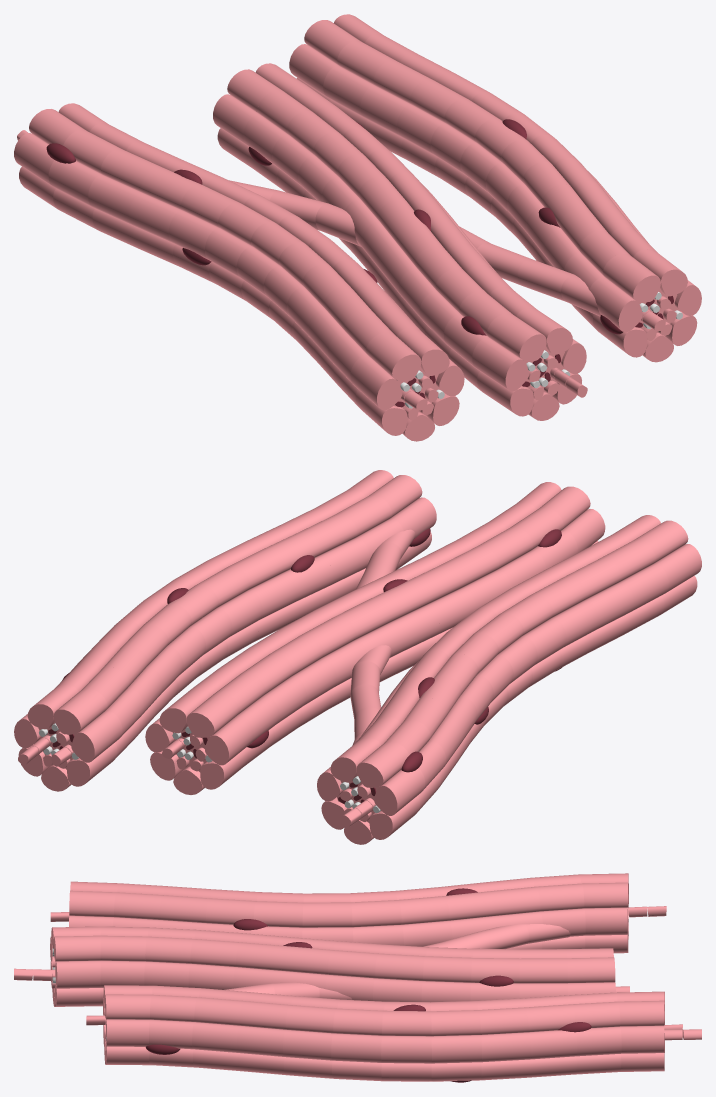
File: cardiac muscle cell.glb
3 views of the same model, one above another, from view 1: azimuth 30°, elevation 25°; view 2: azimuth 150°, elevation 25°; view 3: azimuth 270°, elevation 25° (orthographic). The views are drawn at different scales.
Parts seen in each view (by area): view 1: Main.008_1, Main.009_2, Main.007_0, Main.011_4, Main.010_3, Circle_24; view 2: Main.009_2, Main.008_1, Main.007_0, Main.010_3, Main.011_4, Circle_24; view 3: Main.009_2, Main.007_0, Main.008_1, Main.010_3, Main.011_4, Main.032_79, Main.012_27, Main.027_63.
Boxes of the visible parts, x1,y1,x2,y2 form: Main.008_1: [14, 103, 464, 441]; Main.009_2: [289, 14, 701, 362]; Main.007_0: [213, 63, 586, 420]; Main.011_4: [459, 226, 600, 316]; Main.010_3: [229, 180, 360, 246]; Circle_24: [393, 288, 680, 420]; Main.009_2: [14, 470, 436, 791]; Main.008_1: [317, 515, 701, 844]; Main.007_0: [145, 482, 605, 794]; Main.010_3: [350, 645, 391, 745]; Main.011_4: [356, 529, 415, 589]; Circle_24: [35, 721, 381, 823]; Main.009_2: [103, 985, 664, 1081]; Main.007_0: [50, 926, 615, 1006]; Main.008_1: [69, 873, 628, 953]; Main.010_3: [423, 924, 570, 949]; Main.011_4: [224, 982, 352, 999]; Main.032_79: [14, 968, 55, 980]; Main.012_27: [664, 1029, 701, 1040]; Main.027_63: [628, 906, 666, 917].
Size of the model in its own units: 32.76 by 7.11 by 58.49.
